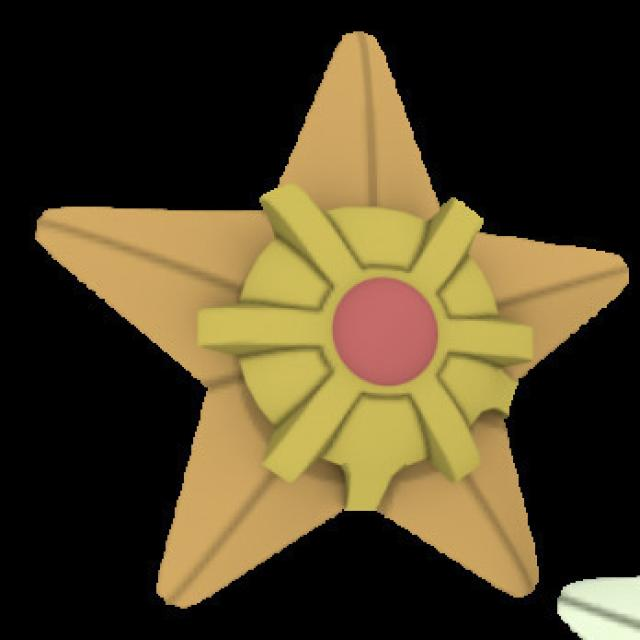Staryu: (32, 13, 600, 612)
